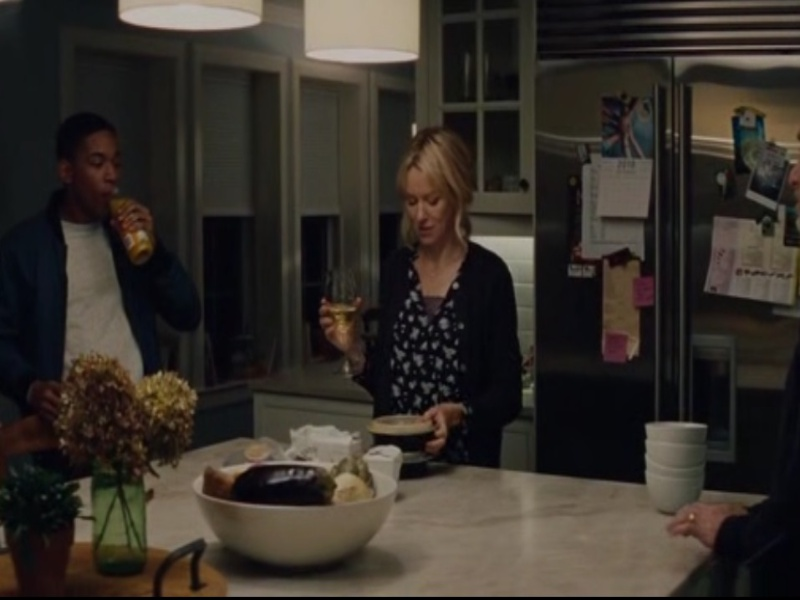TsisyArotava: (394, 145, 460, 261)
